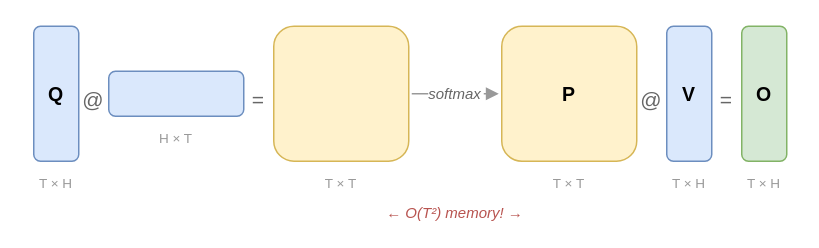
The diagram is 819 pixels wide and 248 high, and some of its shapes have lost their labels. The shapes that lost their labels are listed below. From the top down, each one's centre as x and y in pixels, then its label:
[175,93]: K^T
[340,93]: S / √H
